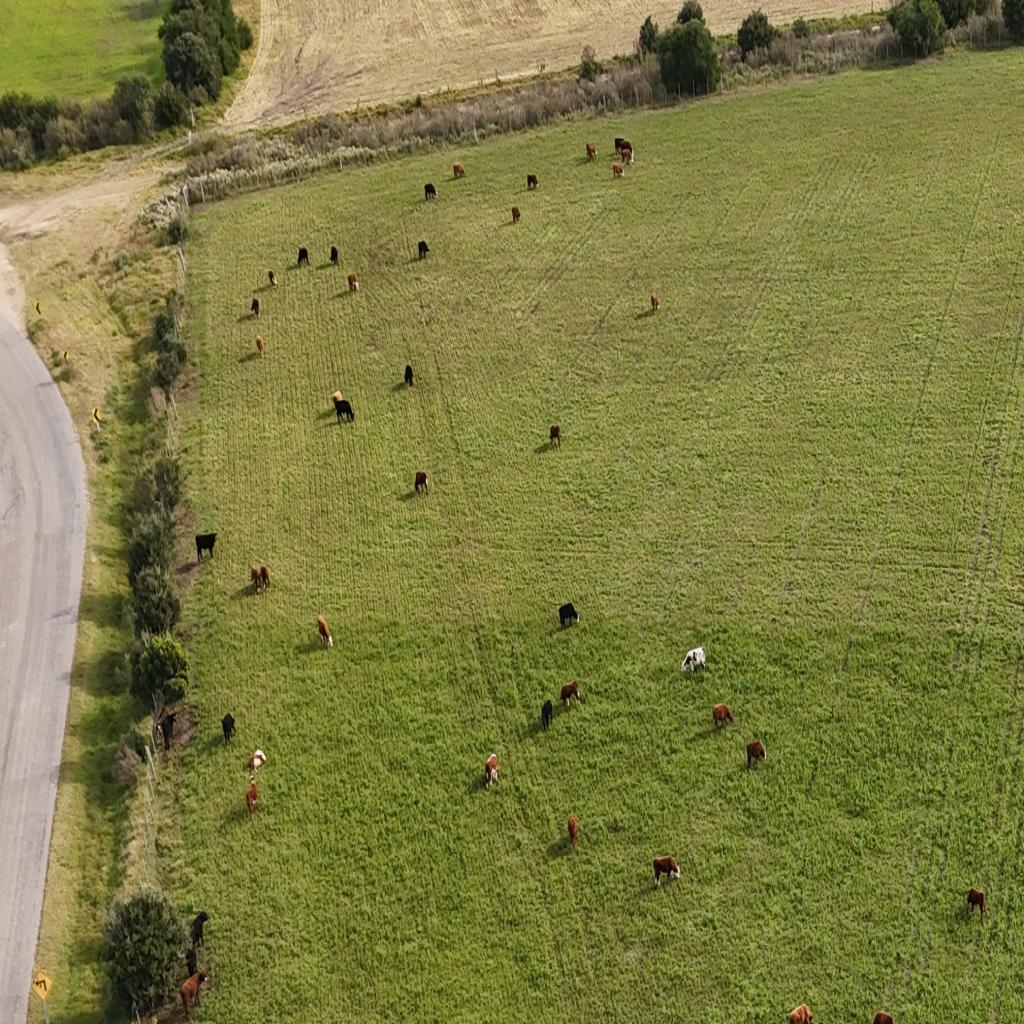cow: (180, 970, 210, 1021), (652, 855, 680, 887), (157, 711, 177, 751), (189, 910, 210, 948), (680, 646, 706, 676), (967, 888, 989, 921), (560, 681, 582, 710), (712, 704, 734, 732), (195, 532, 217, 560), (333, 396, 355, 424), (746, 740, 766, 770), (247, 747, 270, 773), (484, 753, 500, 790), (788, 1003, 814, 1024), (559, 602, 579, 629), (317, 614, 333, 646), (246, 780, 258, 820), (222, 713, 236, 746), (185, 946, 197, 980), (568, 814, 579, 850), (541, 698, 553, 730), (414, 470, 429, 494), (250, 565, 261, 595), (872, 1010, 894, 1024), (260, 565, 271, 592), (550, 425, 561, 448), (418, 240, 430, 261), (298, 247, 310, 268), (586, 142, 597, 162), (404, 364, 414, 386), (424, 182, 436, 200), (621, 150, 634, 166), (348, 273, 358, 293), (251, 297, 260, 319), (620, 140, 634, 154), (453, 163, 465, 179), (256, 336, 264, 359), (267, 270, 277, 288), (612, 163, 624, 178), (330, 246, 339, 266), (527, 174, 538, 190), (512, 206, 521, 225), (614, 137, 624, 154), (651, 294, 659, 314), (332, 390, 342, 404)
